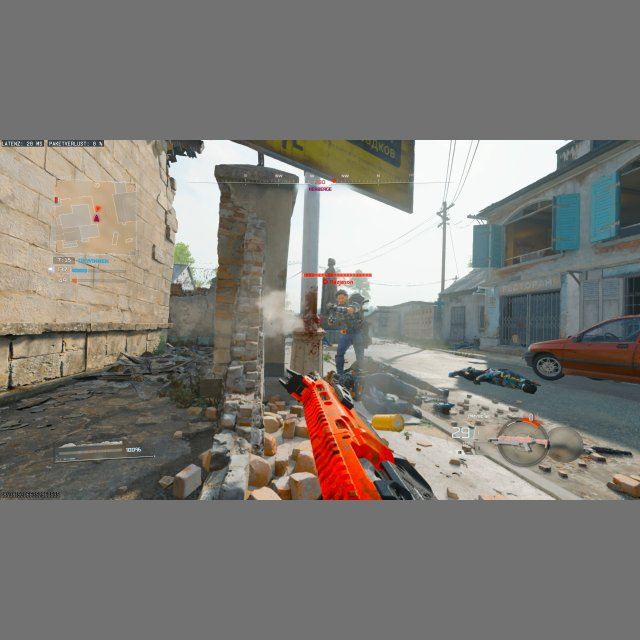head: (336, 289, 349, 304)
player: (325, 289, 371, 377)
